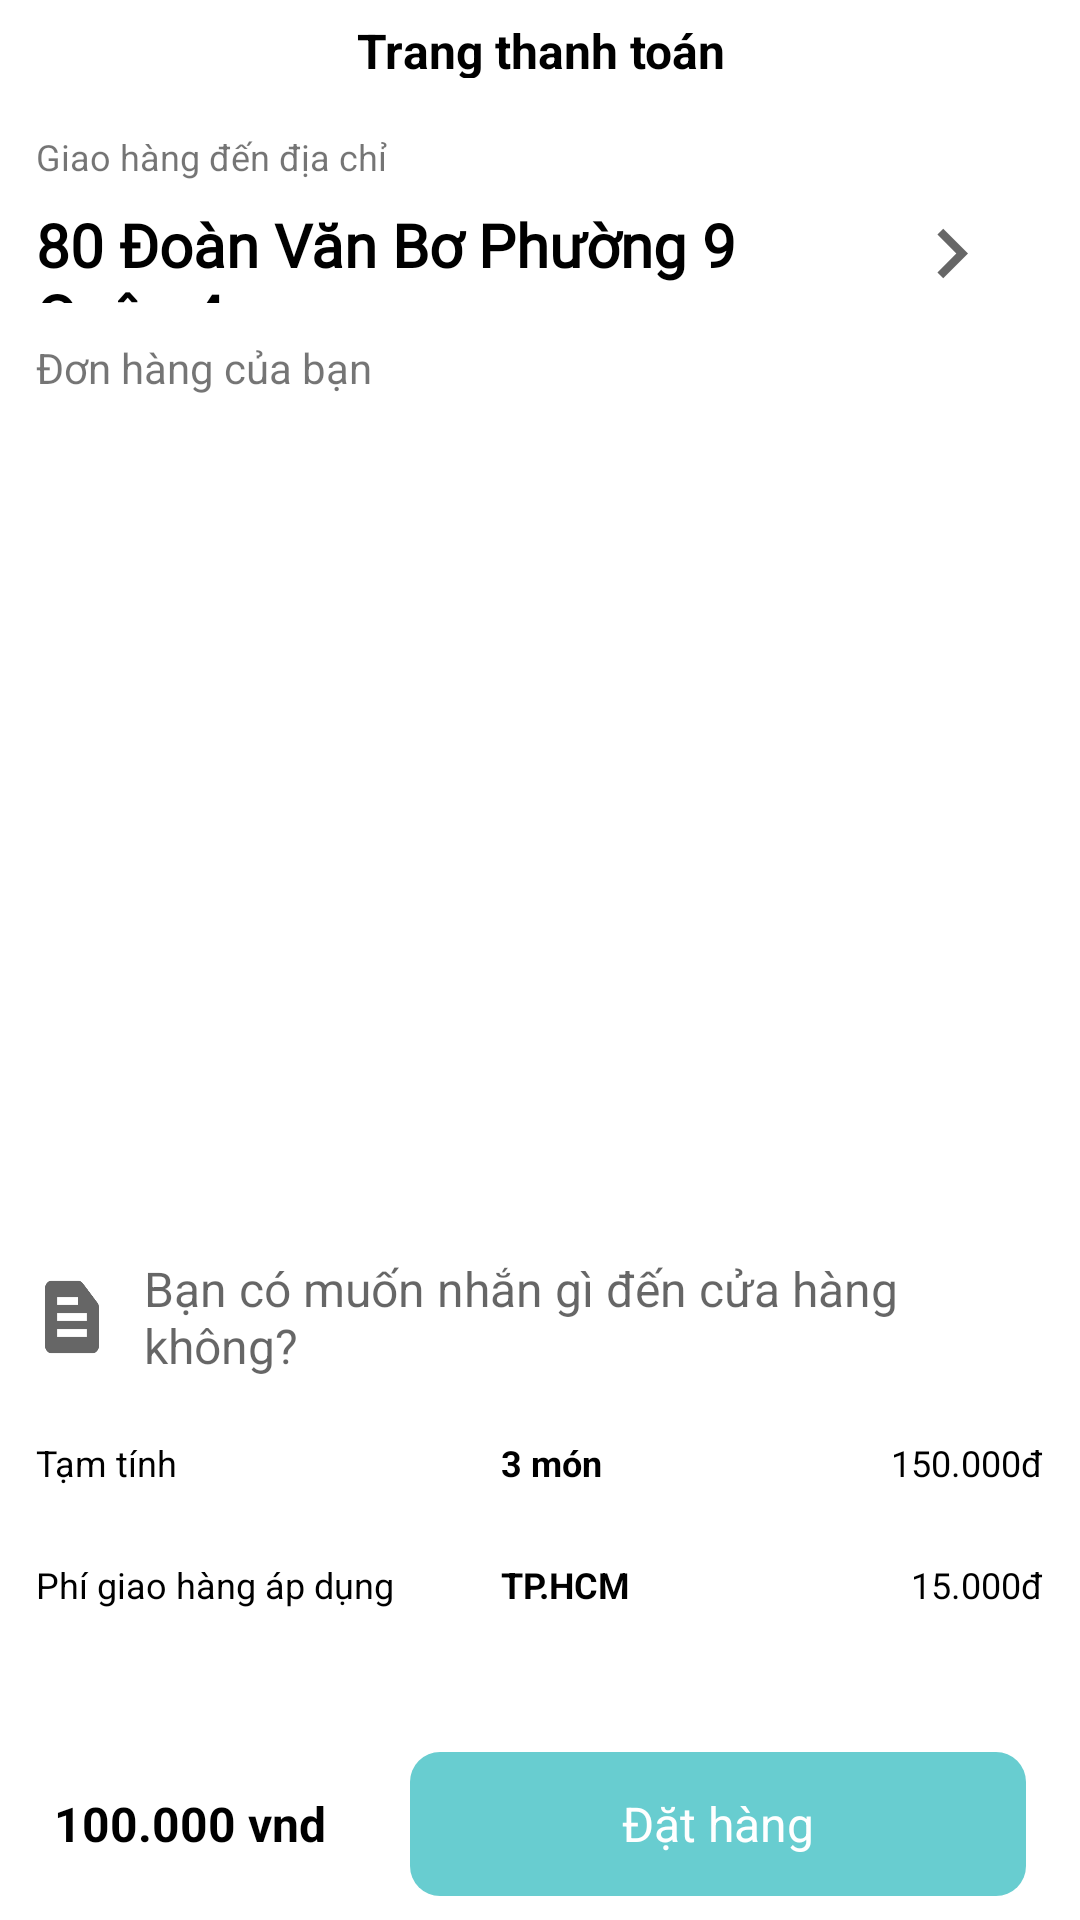

Where icons sit on this 1080 × 1920 app screen, as (x1=x1, y1=y1, x2=x2, y2=y2):
navigate next: (x1=937, y1=229, x2=968, y2=278)
